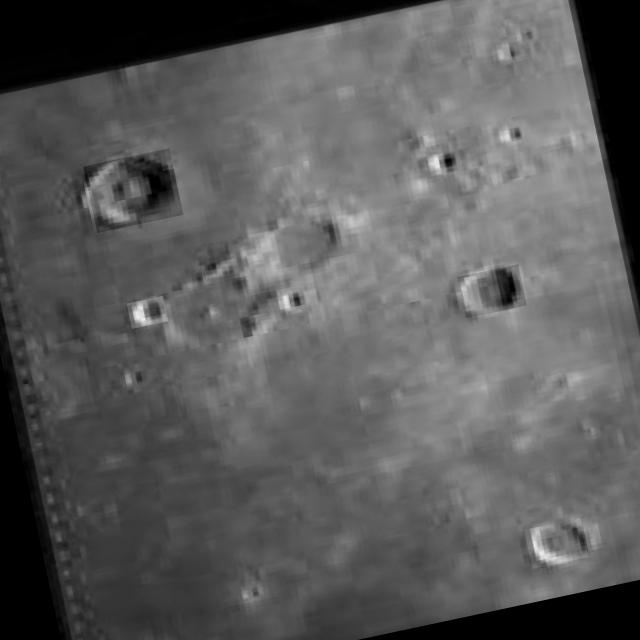crater: (83, 148, 183, 232), (457, 264, 526, 318), (524, 518, 588, 569), (126, 296, 168, 328)
